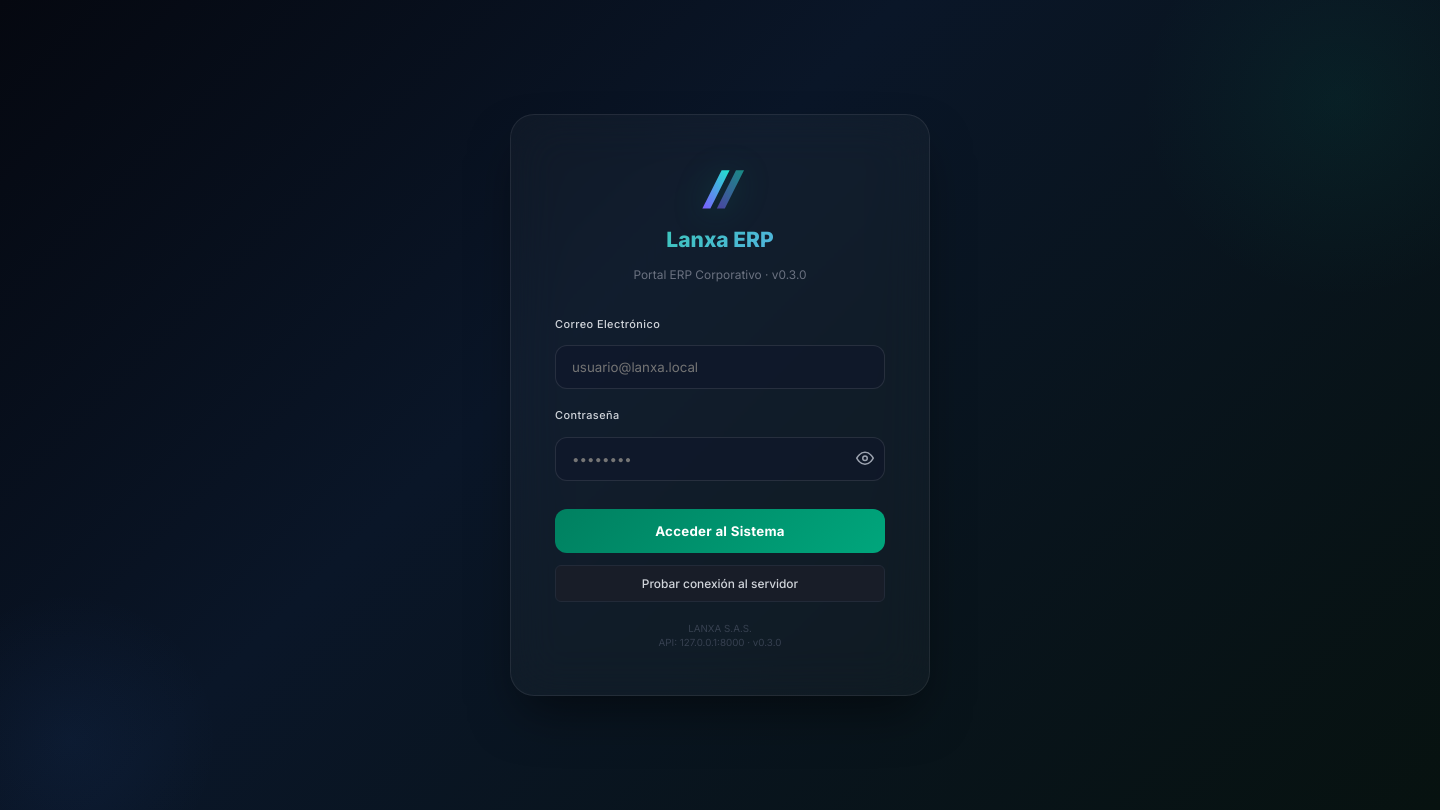
Test: LoginView › error de red sin response: indica que el servidor no responde (start.bat)
This screenshot has width=1440, height=810.
Type "x@test.com" into the field with placeholder "usuario@lanxa.local" at (720, 367), box [555,345,885,389]
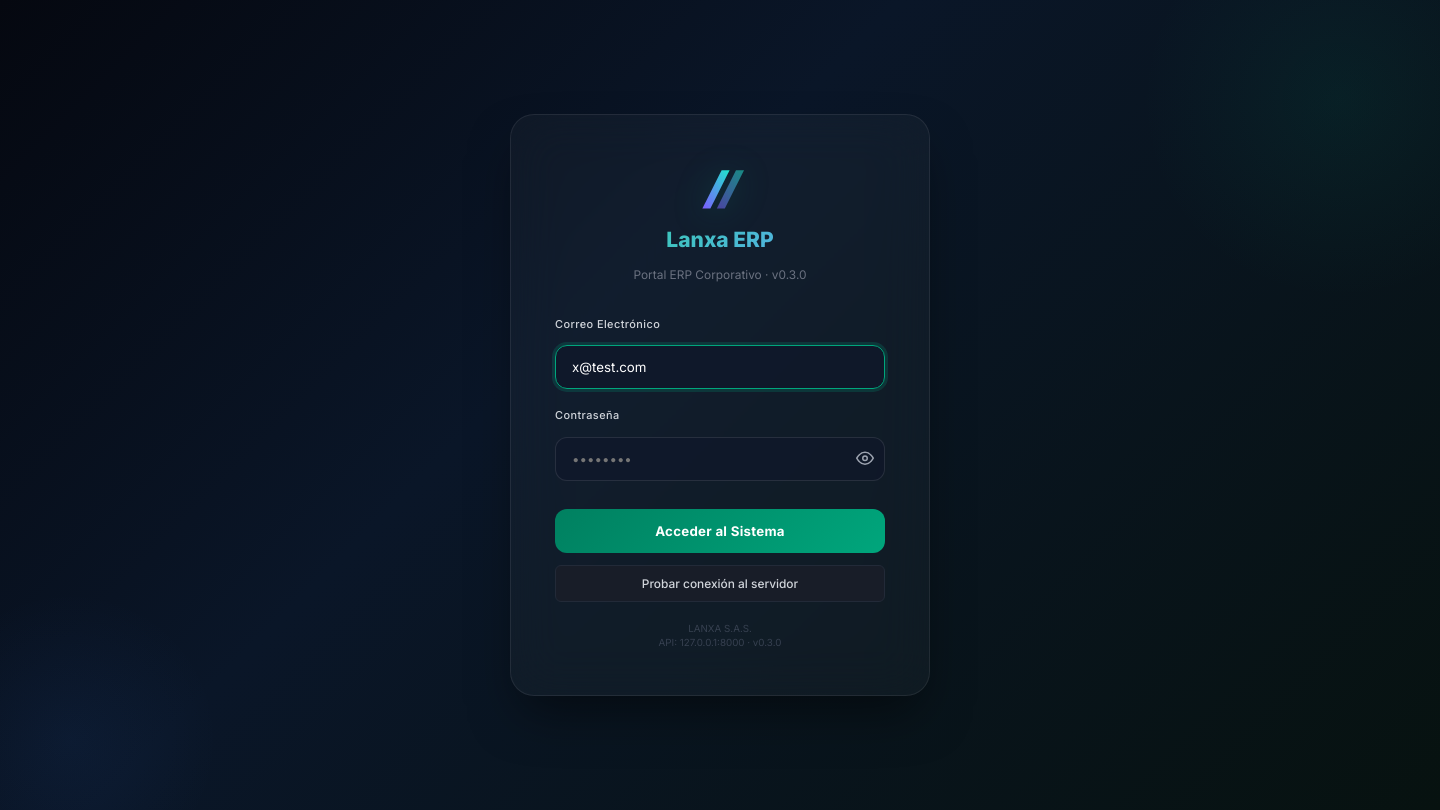
Type "clave123" into the password field with placeholder "••••••••" at (720, 459), box [555,437,885,481]
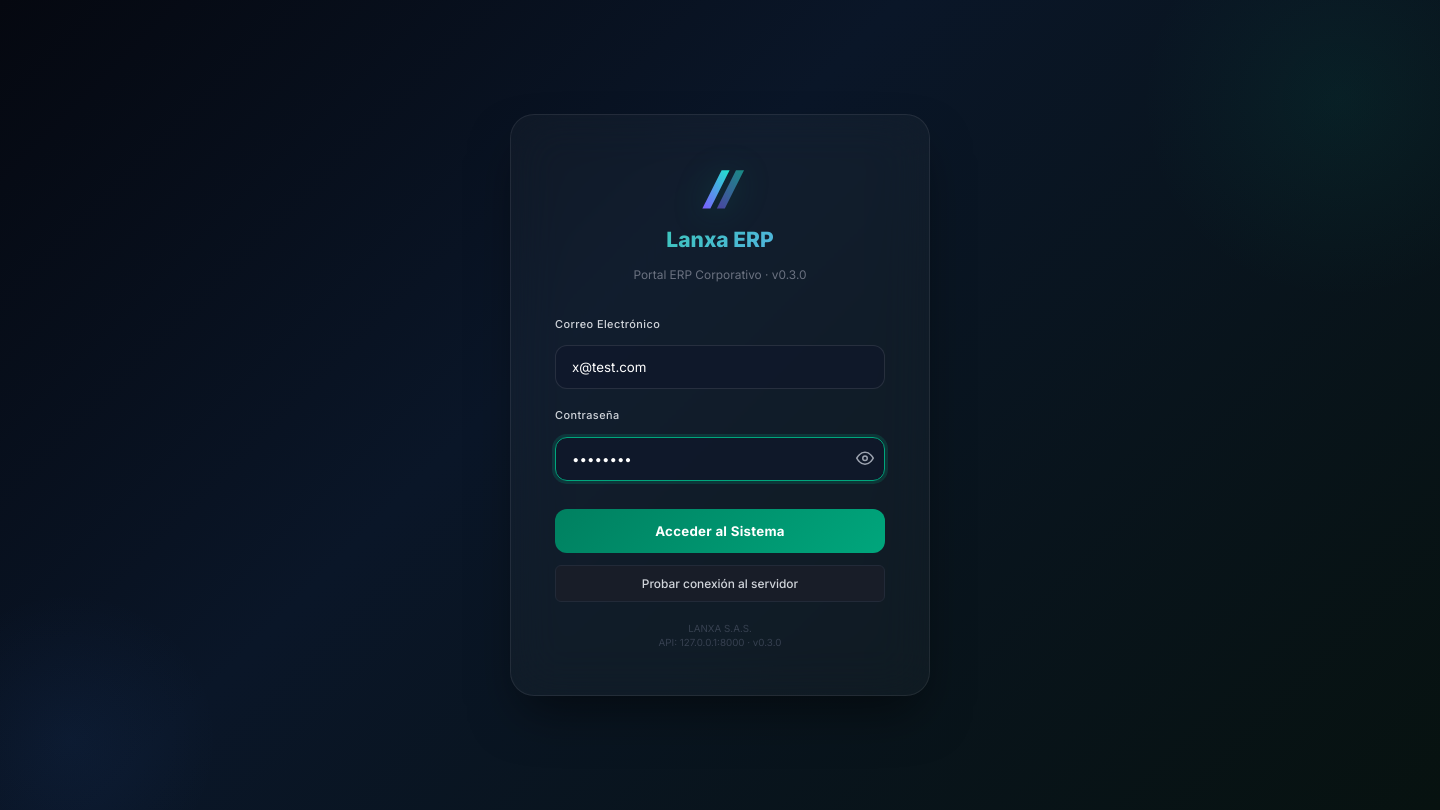
Click the button "Acceder al Sistema" at (720, 531), box [555,509,885,553]
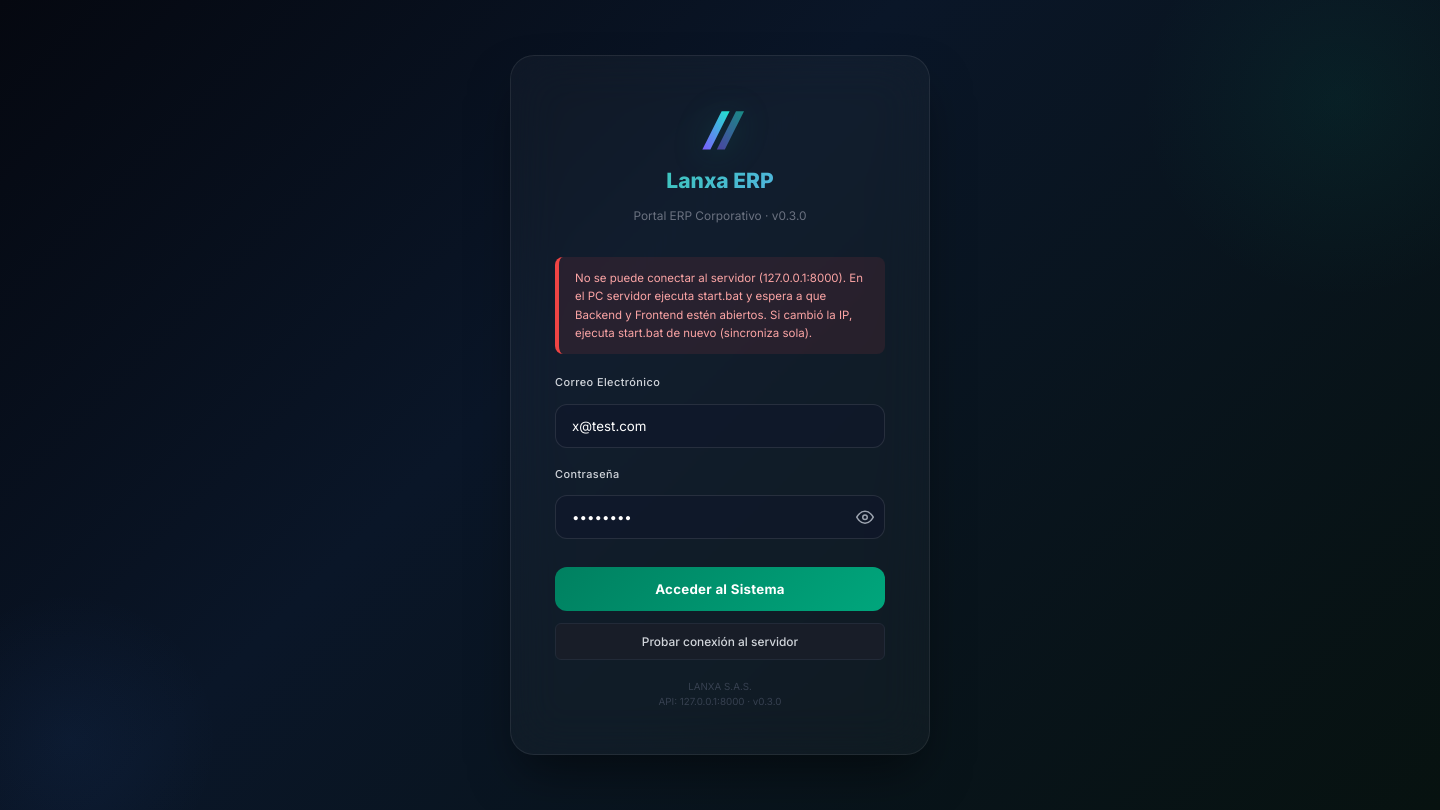
expect the text "No se puede conectar al servidor" is shown: met, box [575,271,863,340]
